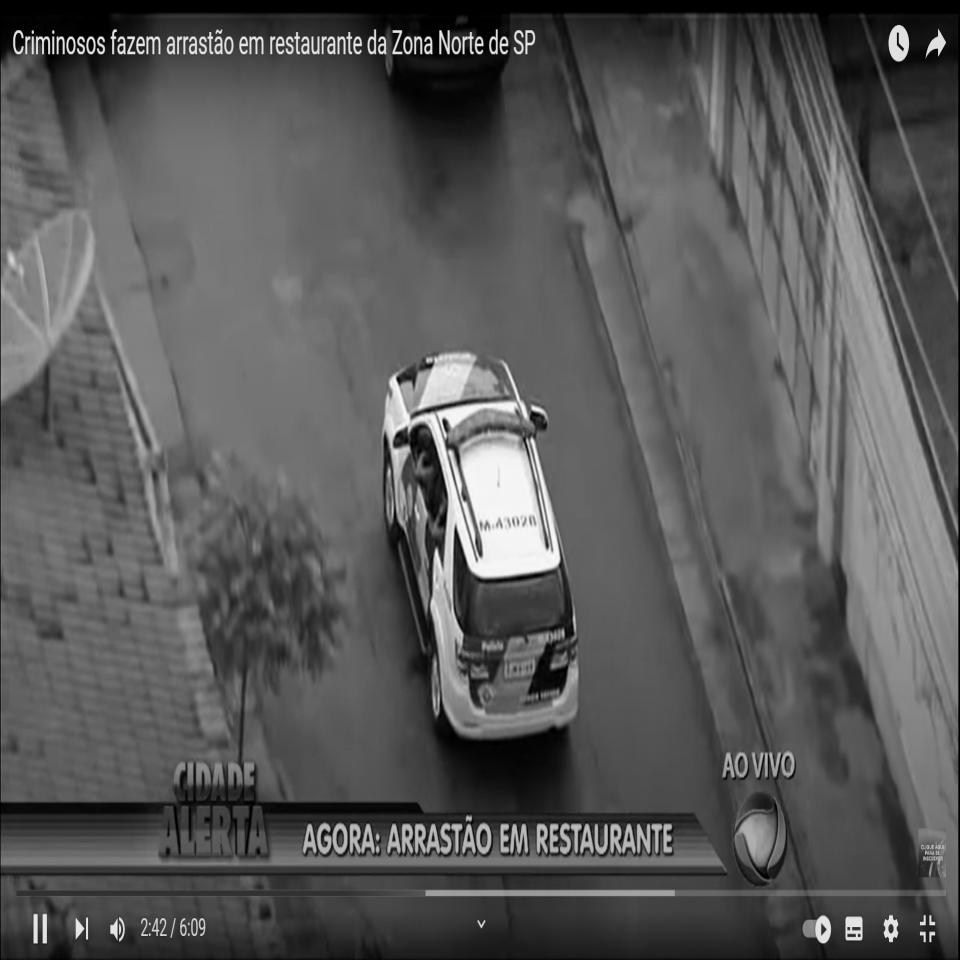viatura: (380, 343, 583, 755)
